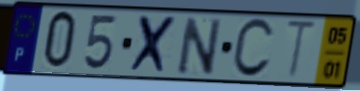0: (41, 8, 80, 74)
5: (82, 13, 119, 72)
C: (229, 16, 276, 81)
N: (176, 15, 224, 77)
T: (283, 17, 320, 82)
X: (127, 13, 181, 77)
